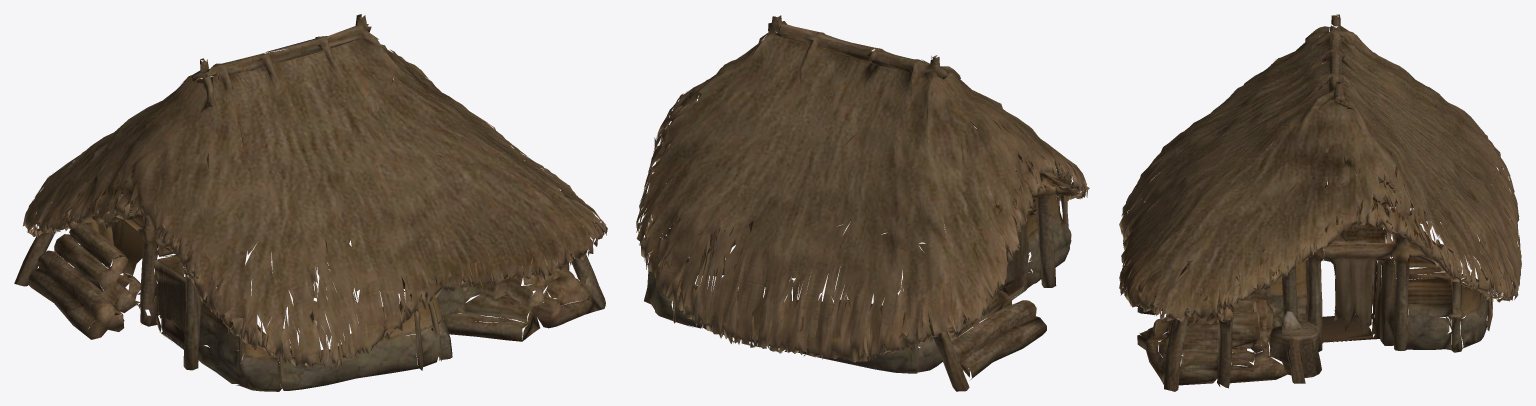
Rendered from lumber_mid.glb.
3 renders of one model, left to right at view 1: azimuth 30°, elevation 25°; view 2: azimuth 150°, elevation 25°; view 3: azimuth 270°, elevation 25°, orthographic. The views are drawn at different scales.
Parts seen in each view (by area): view 1: model; view 2: model; view 3: model.
Part boxes in pixels (x1=…): model: x1=14, y1=14, x2=607, y2=391; model: x1=636, y1=15, x2=1089, y2=391; model: x1=1119, y1=14, x2=1521, y2=391.
Size of the model in its own units: 0.9814 by 0.5755 by 0.8668.
1 material, 1 textured.
